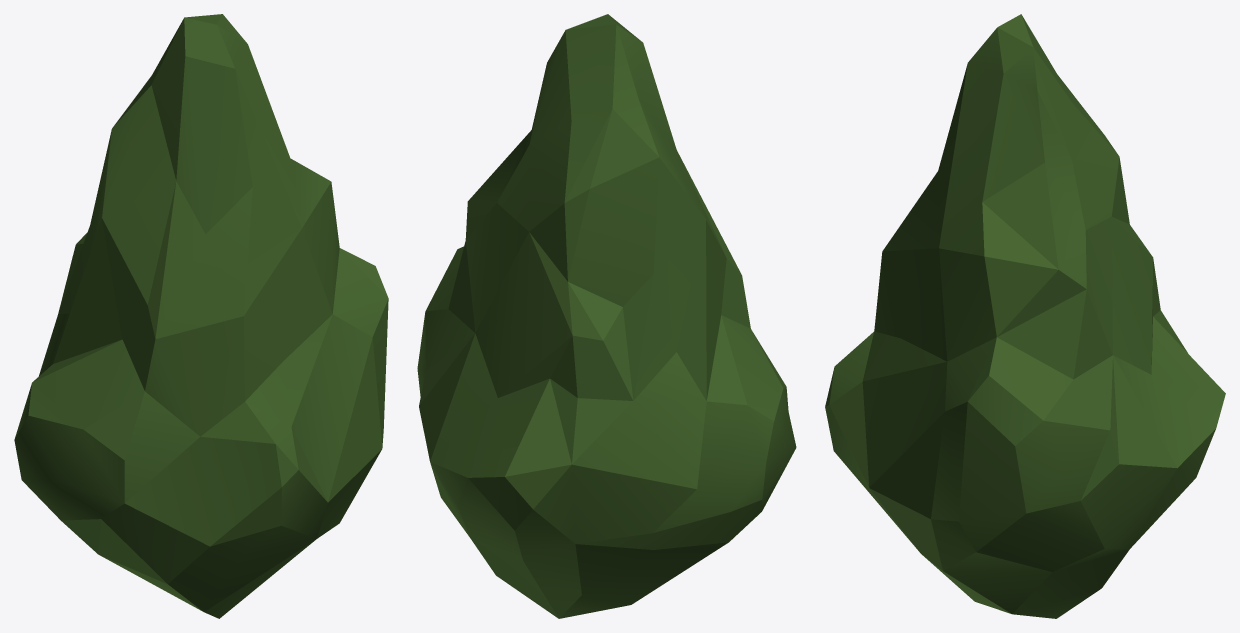
The model's file is BroadleafI.fbx.
3 views of the same model, side by side, from view 1: azimuth 30°, elevation 25°; view 2: azimuth 150°, elevation 25°; view 3: azimuth 270°, elevation 25° (orthographic).
Parts seen in each view (by area): view 1: BroadLeafJ; view 2: BroadLeafJ; view 3: BroadLeafJ.
Part boxes in pixels (x1,y1,x2,y2): BroadLeafJ: [14, 14, 388, 618]; BroadLeafJ: [417, 14, 796, 618]; BroadLeafJ: [825, 14, 1225, 618].
Size of the model in its own units: 411 by 664 by 412.
